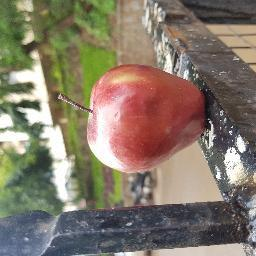Good_apple: (86, 61, 211, 173)
